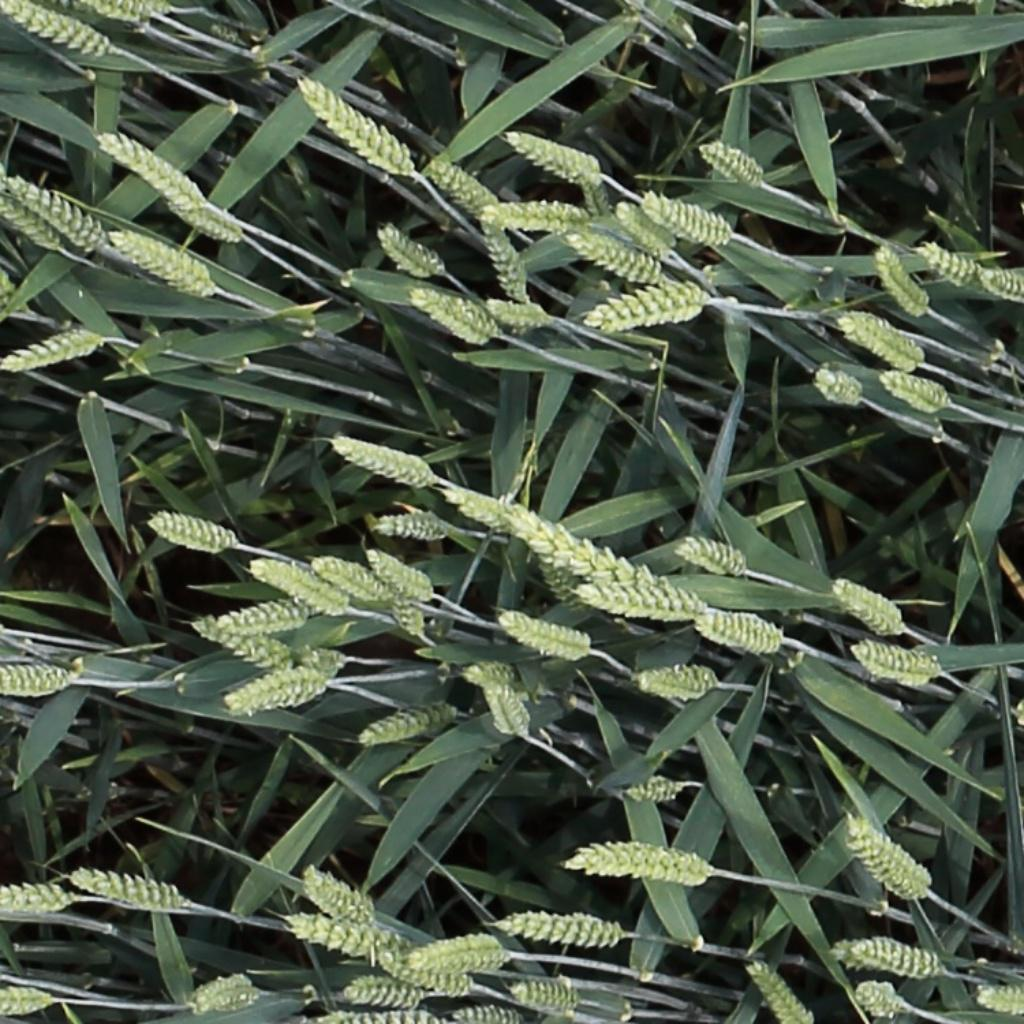0-0: (497, 479, 710, 615), (93, 130, 254, 244), (299, 77, 413, 176), (212, 648, 348, 717), (8, 173, 113, 261), (158, 179, 265, 254), (562, 843, 720, 890), (111, 229, 216, 296), (0, 0, 123, 56), (575, 584, 746, 624), (381, 927, 514, 978), (587, 281, 711, 334), (847, 819, 933, 894), (188, 616, 296, 672), (331, 435, 435, 493), (834, 305, 925, 367), (480, 206, 533, 307), (412, 286, 497, 348), (252, 559, 348, 613), (485, 198, 611, 238), (569, 229, 664, 282), (873, 237, 935, 318), (289, 918, 408, 959), (489, 908, 622, 944), (145, 509, 240, 558), (745, 954, 813, 1022), (207, 596, 333, 632), (644, 192, 734, 241), (507, 129, 600, 176), (880, 363, 954, 422), (455, 655, 548, 701), (529, 554, 590, 623), (304, 869, 375, 928), (378, 951, 471, 995), (427, 155, 495, 215), (832, 580, 907, 633), (2, 329, 103, 368), (376, 221, 446, 277), (498, 613, 591, 655), (480, 670, 532, 745), (70, 873, 184, 907), (615, 196, 677, 258), (312, 557, 391, 603), (360, 708, 458, 745), (0, 191, 60, 249), (437, 489, 509, 537), (848, 642, 943, 678), (367, 550, 435, 600), (696, 614, 787, 651), (336, 971, 427, 1008), (627, 659, 723, 694), (836, 943, 944, 974), (0, 877, 72, 920), (191, 966, 259, 1011), (701, 139, 768, 182), (370, 511, 453, 544), (920, 241, 983, 283), (387, 587, 431, 647), (0, 659, 75, 692), (578, 159, 614, 225), (678, 542, 750, 574), (508, 985, 580, 1014), (815, 365, 866, 404), (486, 299, 555, 326), (419, 954, 506, 973), (444, 1003, 522, 1024), (857, 987, 910, 1017), (83, 0, 166, 19), (0, 983, 51, 1013), (978, 266, 1024, 297), (0, 215, 15, 305), (975, 988, 1024, 1015), (625, 783, 689, 801)
